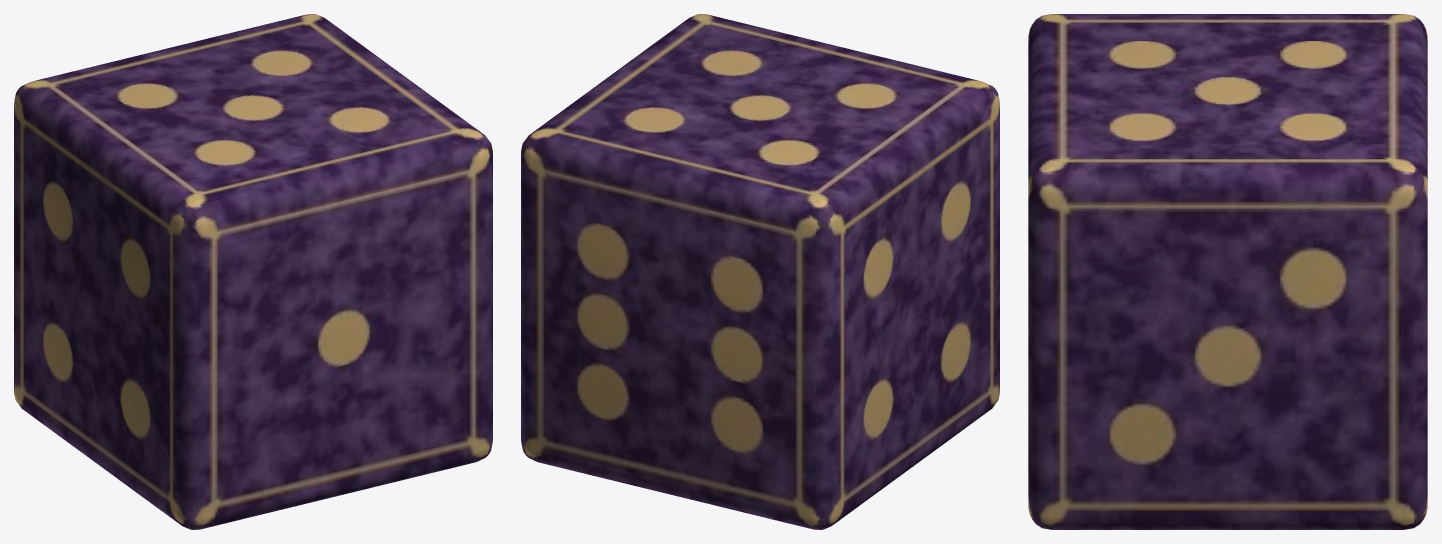
The model's file is altmer-d6.glb.
The picture shows the model from 3 angles, left to right: view 1: azimuth 30°, elevation 25°; view 2: azimuth 150°, elevation 25°; view 3: azimuth 270°, elevation 25°; orthographic projection. The views are drawn at different scales.
Parts seen in each view (by area): view 1: altmer_d6; view 2: altmer_d6; view 3: altmer_d6.
Part boxes in pixels (<box>): altmer_d6: <box>14,14,492,529</box>; altmer_d6: <box>521,14,999,529</box>; altmer_d6: <box>1028,14,1427,529</box>.
Bounding box in the file's own units: 1.4 × 1.4 × 1.4.
1 material, 1 textured.
